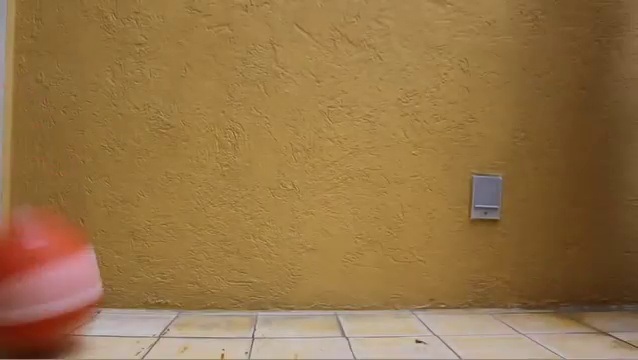ball: (1, 206, 103, 351)
